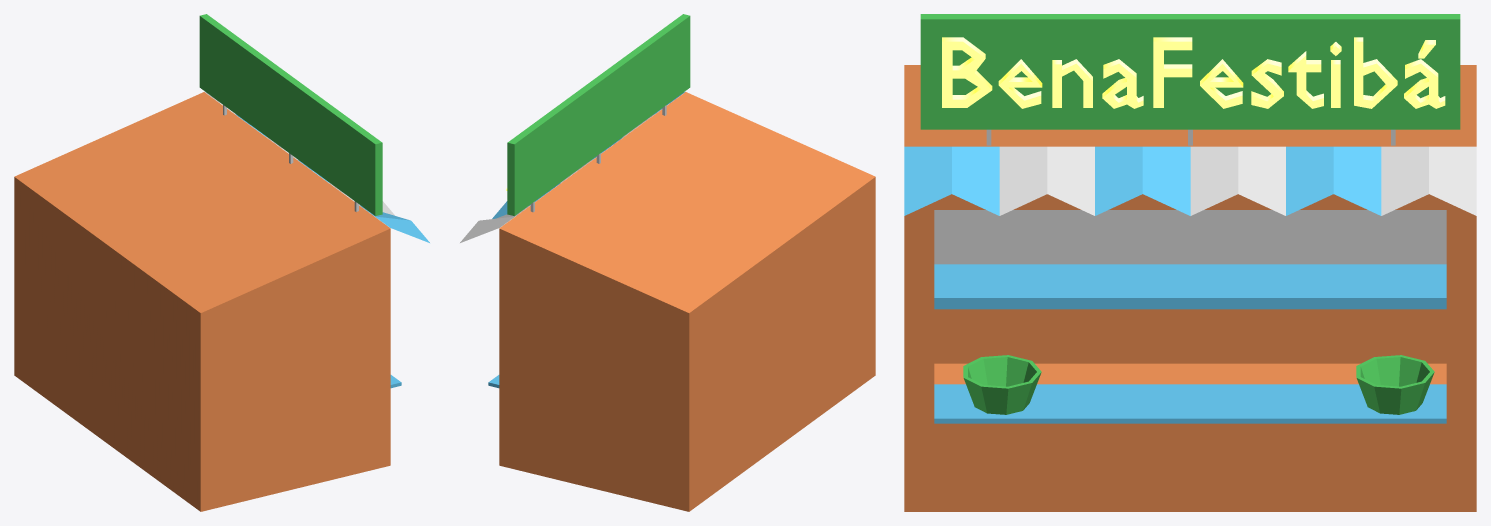
The model's file is VR_StandAros.fbx.
3 renders of one model, left to right at view 1: azimuth 30°, elevation 25°; view 2: azimuth 150°, elevation 25°; view 3: azimuth 270°, elevation 25°, orthographic. The views are drawn at different scales.
Visible parts, largest first — view 1: StandAros; view 2: StandAros; view 3: StandAros, text.
Part boxes in pixels (<box>): StandAros: <box>14,14,429,511</box>; StandAros: <box>460,14,875,511</box>; StandAros: <box>904,14,1476,511</box>; text: <box>942,37,1445,108</box>.
Bounding box in the file's own units: 1211 × 1609 × 1702.
